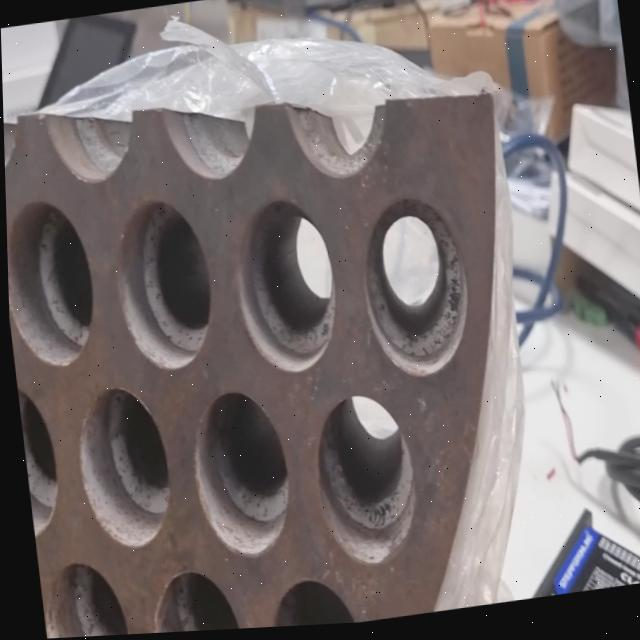Hole: (351, 190, 474, 386), (225, 194, 340, 382), (305, 391, 418, 573), (106, 194, 217, 377), (182, 387, 293, 566), (66, 380, 173, 556), (5, 192, 99, 373), (33, 555, 125, 639), (141, 563, 237, 635), (260, 572, 355, 630)
